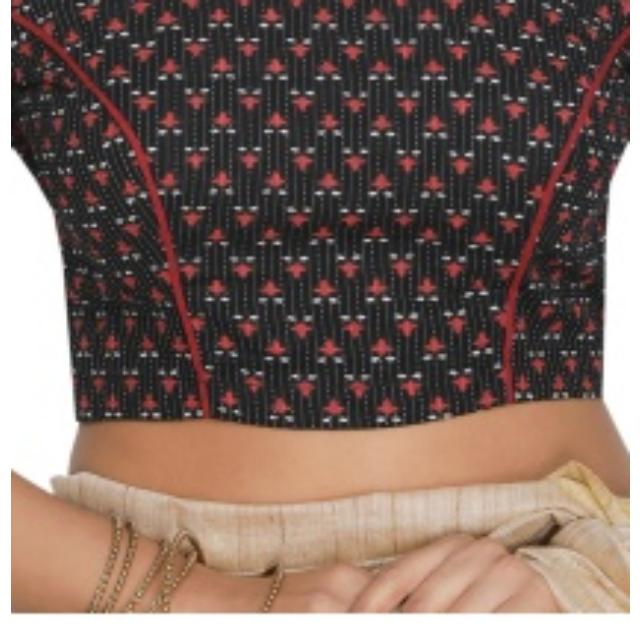cotton: (11, 1, 630, 422)
